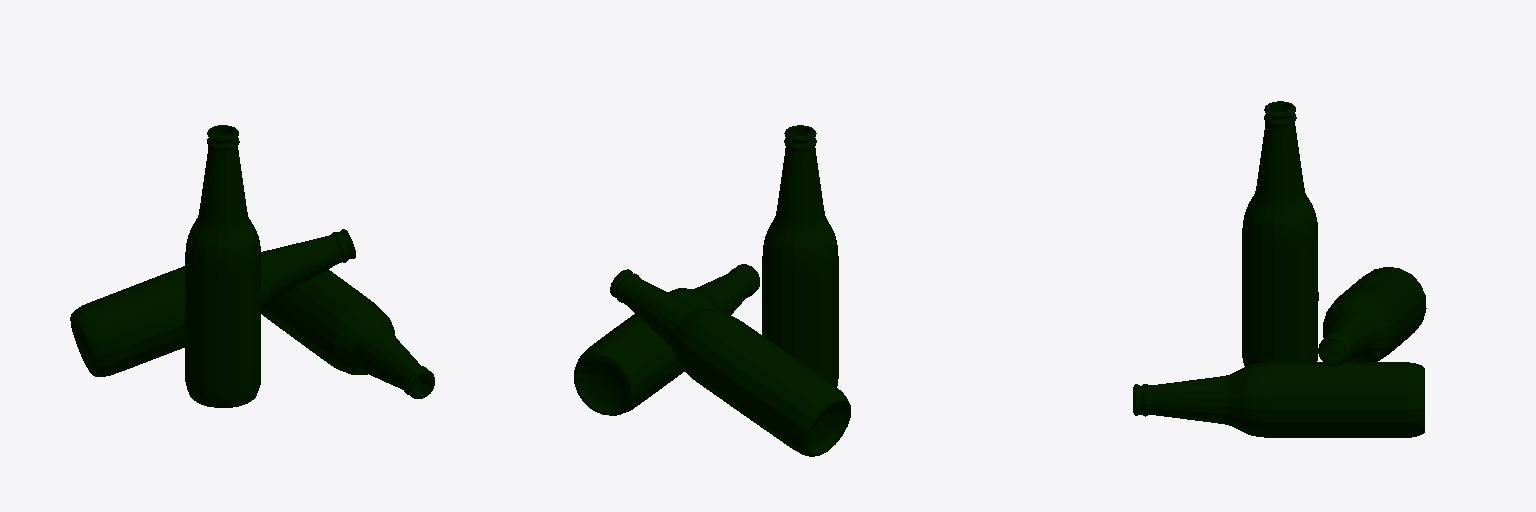
File: beerbottles.obj
The picture shows the model from 3 angles: view 1: azimuth 30°, elevation 25°; view 2: azimuth 150°, elevation 25°; view 3: azimuth 270°, elevation 25°; orthographic projection.
Visible parts, largest first — view 1: Beer_bottle_Circle, Beer_bottle.002_Circle.003, Beer_bottle.001_Circle.002; view 2: Beer_bottle.002_Circle.003, Beer_bottle_Circle, Beer_bottle.001_Circle.002; view 3: Beer_bottle.001_Circle.002, Beer_bottle_Circle, Beer_bottle.002_Circle.003.
Boxes of the visible parts, x1=… form: Beer_bottle_Circle: x1=185, y1=125, x2=260, y2=407; Beer_bottle.002_Circle.003: x1=70, y1=229, x2=355, y2=376; Beer_bottle.001_Circle.002: x1=261, y1=269, x2=434, y2=398; Beer_bottle.002_Circle.003: x1=610, y1=269, x2=850, y2=456; Beer_bottle_Circle: x1=762, y1=125, x2=838, y2=387; Beer_bottle.001_Circle.002: x1=574, y1=264, x2=759, y2=415; Beer_bottle.001_Circle.002: x1=1133, y1=362, x2=1424, y2=437; Beer_bottle_Circle: x1=1242, y1=101, x2=1318, y2=366; Beer_bottle.002_Circle.003: x1=1318, y1=267, x2=1426, y2=366.
Size of the model in its own units: 2 by 2.02 by 2.01.